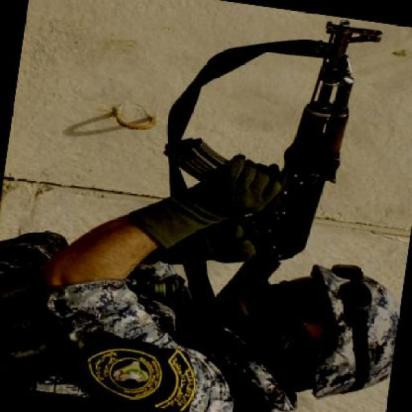Gun: (163, 0, 385, 259)
